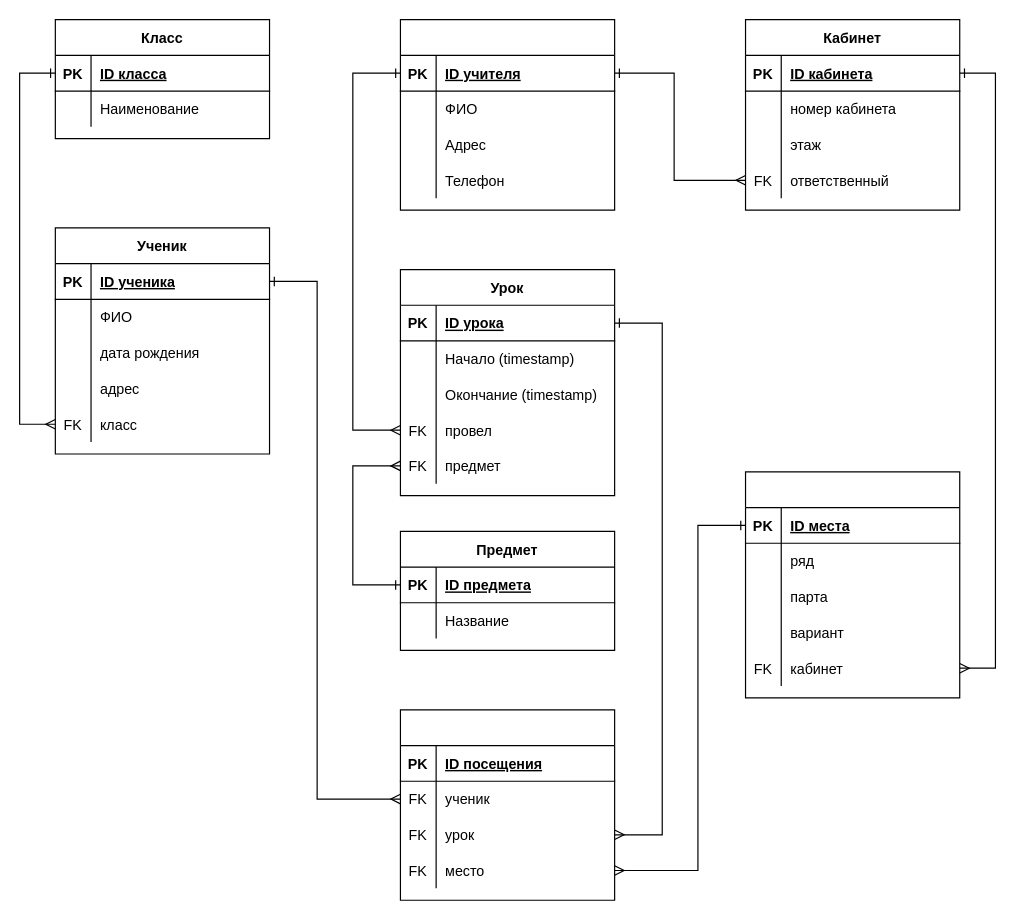
This 1015x920 diagram has some shape labels left out. The shapes that lost their labels are listed below. From the top down, each one's box as (x1, y1, x2, y2) in pixels, then its label:
(399, 18, 615, 210): Учитель
(744, 471, 960, 698): Места в кабинете
(399, 709, 615, 900): Посещение
